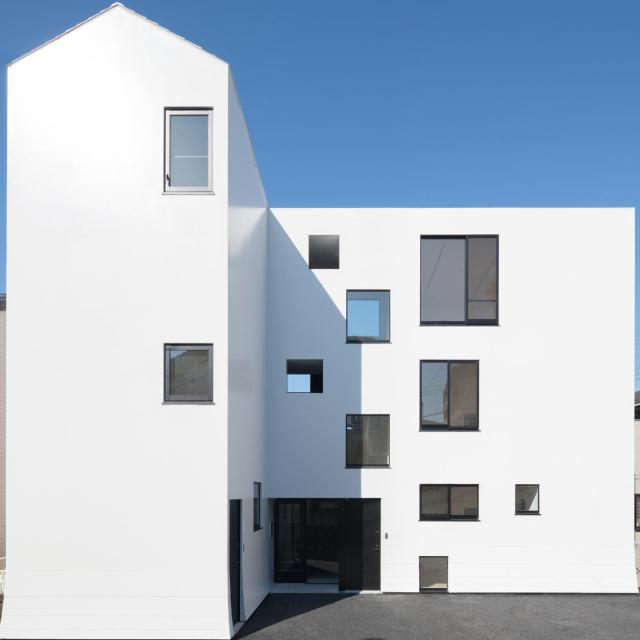door: (274, 501, 338, 584), (339, 500, 378, 590)
wall: (4, 2, 634, 640)
windows: (421, 237, 498, 326), (420, 361, 479, 430), (166, 112, 212, 192), (166, 348, 213, 403), (346, 290, 390, 342), (346, 416, 388, 467), (419, 486, 476, 519), (308, 235, 339, 272), (418, 557, 448, 593), (513, 485, 538, 514), (288, 375, 311, 393), (252, 483, 260, 527)
